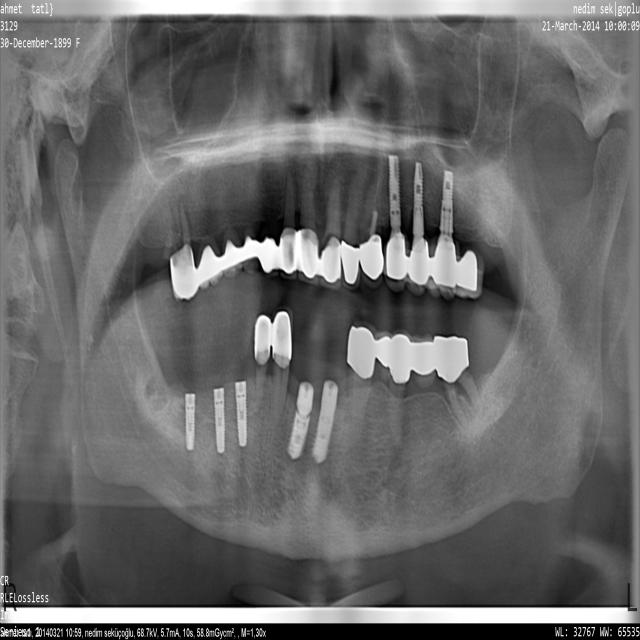Canine: (333, 322, 377, 479), (362, 142, 385, 289), (261, 182, 278, 277), (254, 319, 269, 413)
Incisores: (340, 167, 365, 289), (270, 306, 292, 428), (299, 167, 319, 286), (320, 175, 340, 290), (281, 171, 296, 279)
Premolars: (405, 165, 427, 296), (385, 162, 405, 291), (389, 329, 410, 448), (220, 185, 243, 278), (376, 331, 394, 437), (243, 188, 259, 274)
molars: (435, 336, 484, 430), (450, 187, 485, 298), (427, 170, 457, 298), (167, 197, 196, 299), (411, 335, 440, 429), (193, 201, 223, 290)
